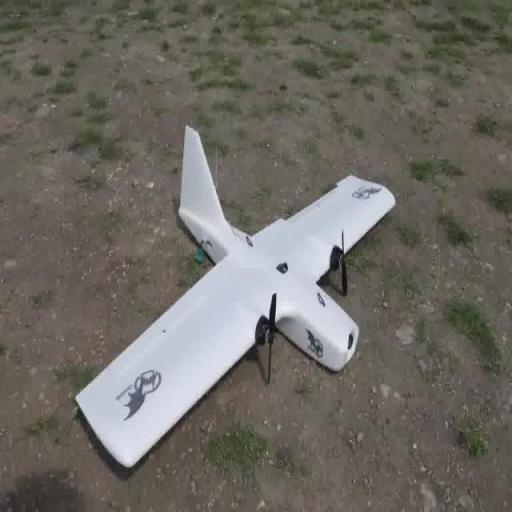uav: (73, 122, 399, 477)
